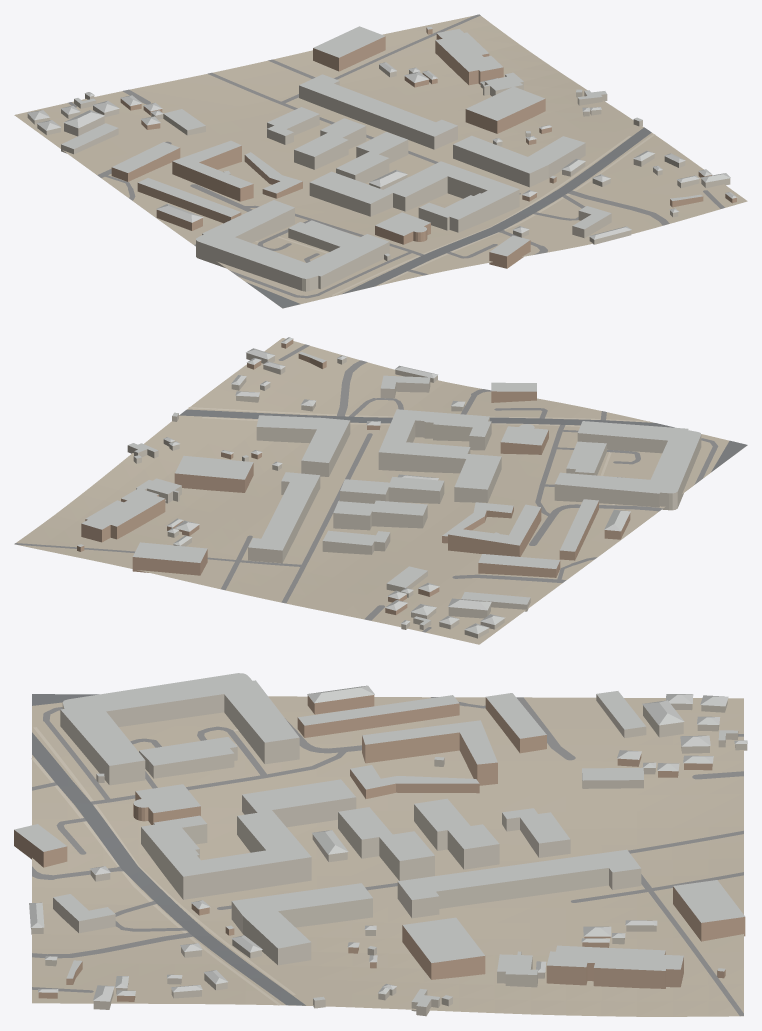
File: bolak_-8_2.glb
The picture shows the model from 3 angles, top to bottom: view 1: azimuth 30°, elevation 25°; view 2: azimuth 150°, elevation 25°; view 3: azimuth 270°, elevation 25°; orthographic projection. The views are drawn at different scales.
Visible parts, largest first — view 1: Yer_Tuproq-col, Tom_Shifer, Devor_Suvoq-col, Devor_Gisht-col, Yol_Mahalla-col, Yol_Asfalt-col, Yol_Piyoda; view 2: Yer_Tuproq-col, Tom_Shifer, Devor_Suvoq-col, Devor_Gisht-col, Yol_Mahalla-col, Yol_Asfalt-col, Yol_Piyoda; view 3: Yer_Tuproq-col, Tom_Shifer, Devor_Suvoq-col, Devor_Gisht-col, Yol_Mahalla-col, Yol_Asfalt-col, Yol_Piyoda.
Part boxes in pixels (x1,y1,x2,y2): Yer_Tuproq-col: (14,15,747,308); Tom_Shifer: (27,26,737,278); Devor_Suvoq-col: (27,64,730,291); Devor_Gisht-col: (111,27,736,268); Yol_Mahalla-col: (68,14,724,298); Yol_Asfalt-col: (246,127,651,308); Yol_Piyoda: (255,134,655,295); Yer_Tuproq-col: (15,338,729,644); Tom_Shifer: (77,337,701,633); Devor_Suvoq-col: (127,353,701,638); Devor_Gisht-col: (77,339,630,614); Yol_Mahalla-col: (14,344,718,632); Yol_Asfalt-col: (179,409,747,472); Yol_Piyoda: (188,407,649,505); Yer_Tuproq-col: (32,696,743,1016); Tom_Shifer: (14,673,747,1006); Devor_Suvoq-col: (31,694,747,1016); Devor_Gisht-col: (14,695,745,1001); Yol_Mahalla-col: (32,697,743,1016); Yol_Asfalt-col: (32,694,305,1005); Yol_Piyoda: (31,727,295,1005).
Size of what is drawn, in the model's own units: 413 by 23.63 by 412.
